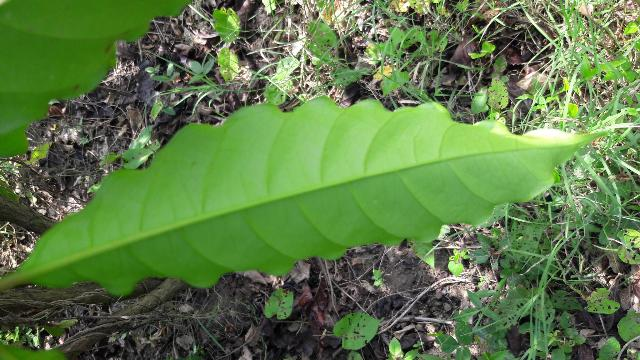healthy: (9, 98, 595, 295)
